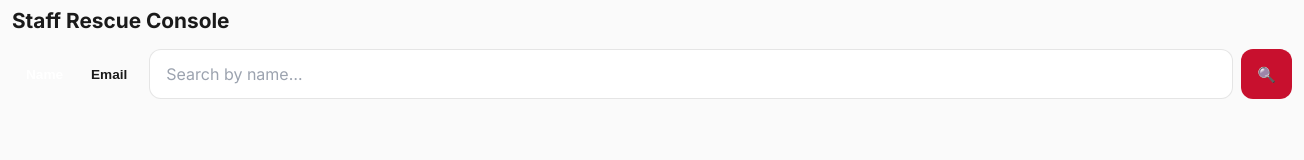
it: StaffRescue › toggles search type between name and email
Click the button with aria-label "Search by email".
click(109, 74)  # box [77,49,141,99]
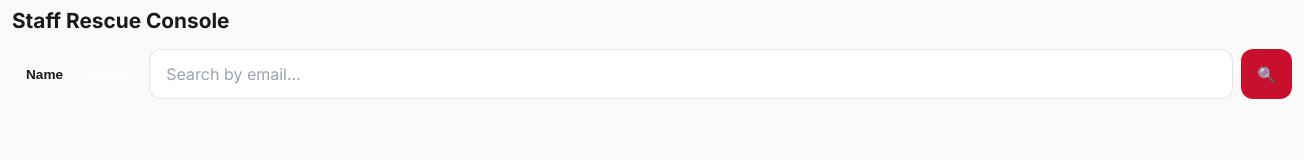
Expected: the field with placeholder "Search by email…" is shown, [149,49,1233,99]
Click the button with aria-label "Search by name".
click(44, 74)  # box [12,49,77,99]
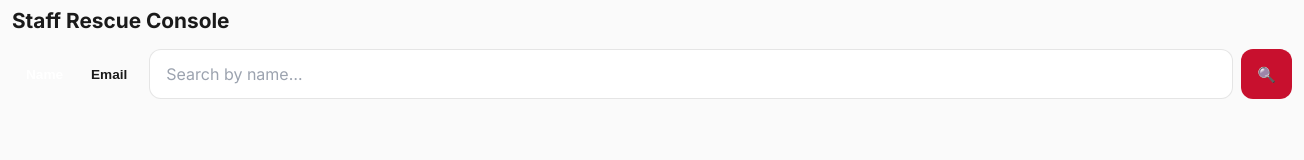
Expected: the field with placeholder "Search by name…" is shown, [149,49,1233,99]
